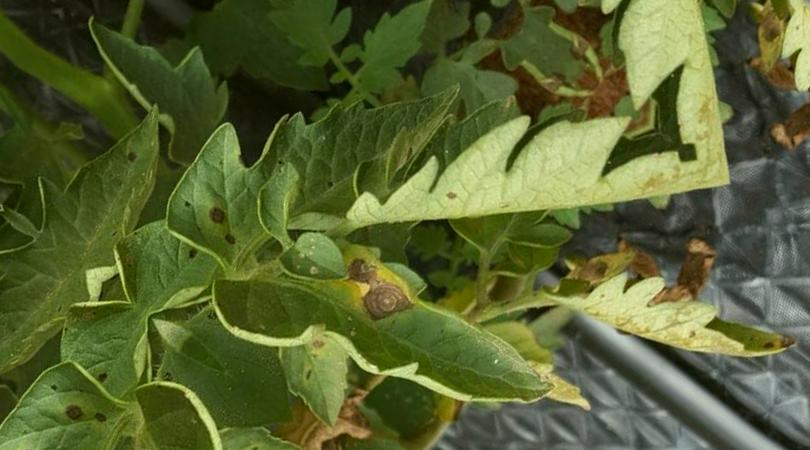Tomato Early blight leaf: (195, 175, 597, 450)
Tomato leaf: (47, 0, 264, 185), (201, 0, 378, 89)
